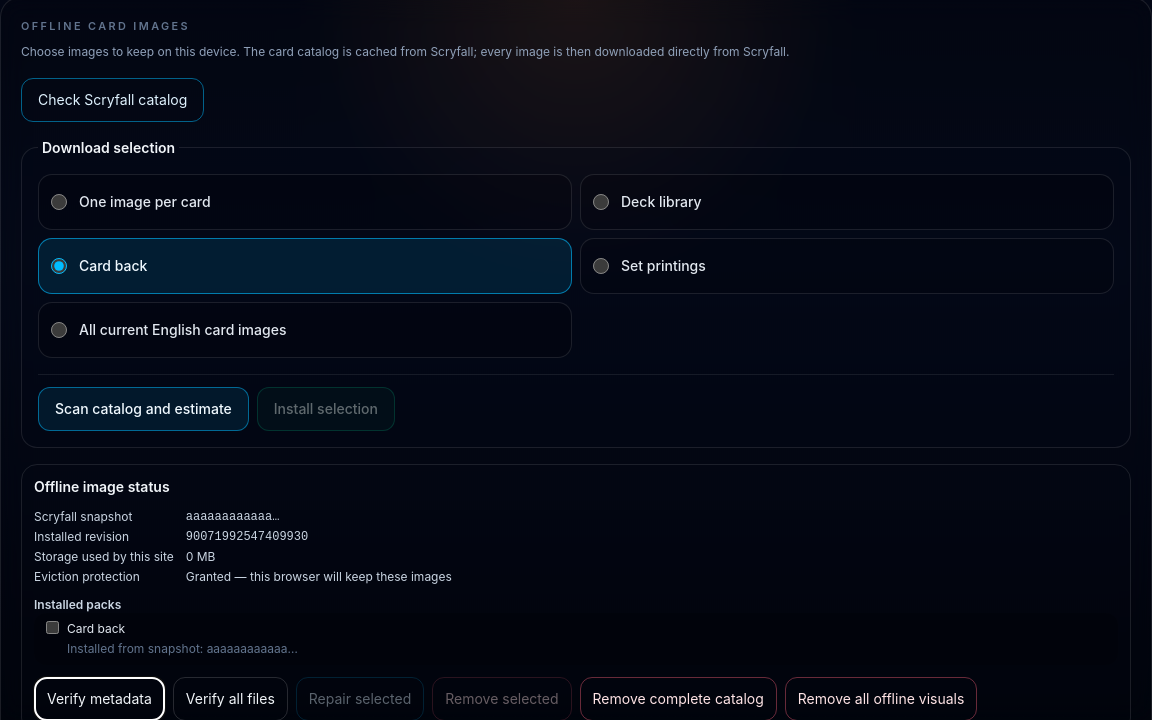
it: VisualPackManager initialization › restores a removal confirmation to its pointer launcher
Click the button "Remove all offline visuals".
click(881, 699)  # box [785,677,977,719]
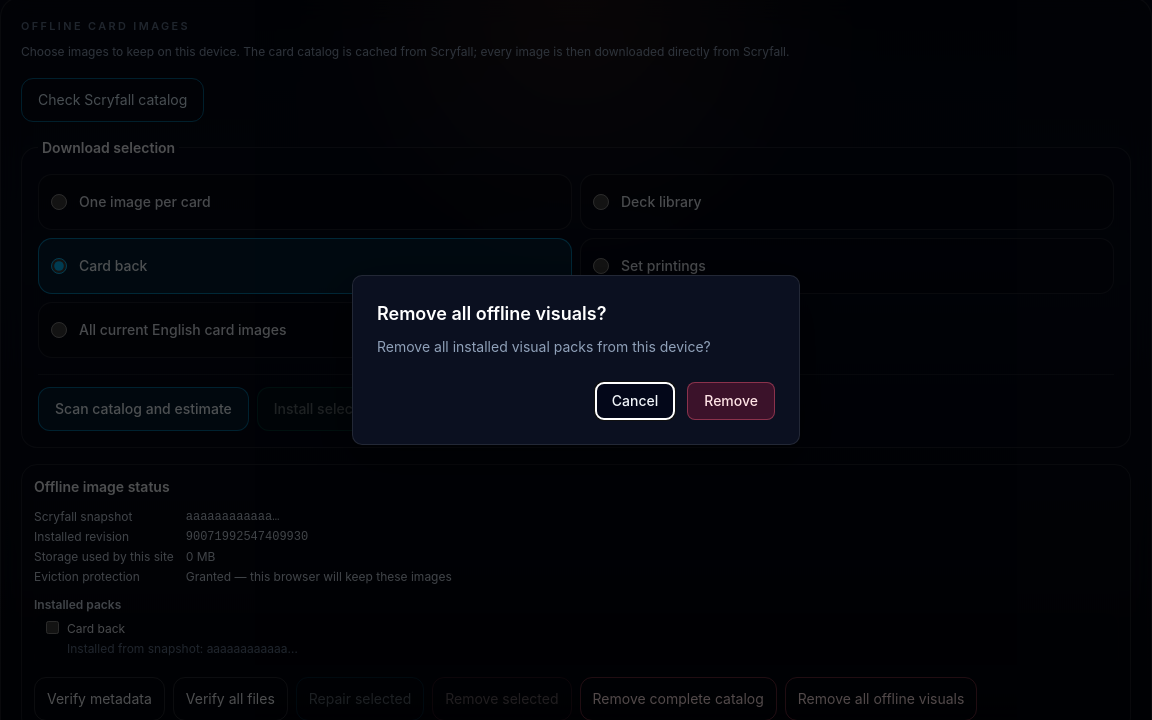
Press Escape in the dialog, box [352,275,800,445]
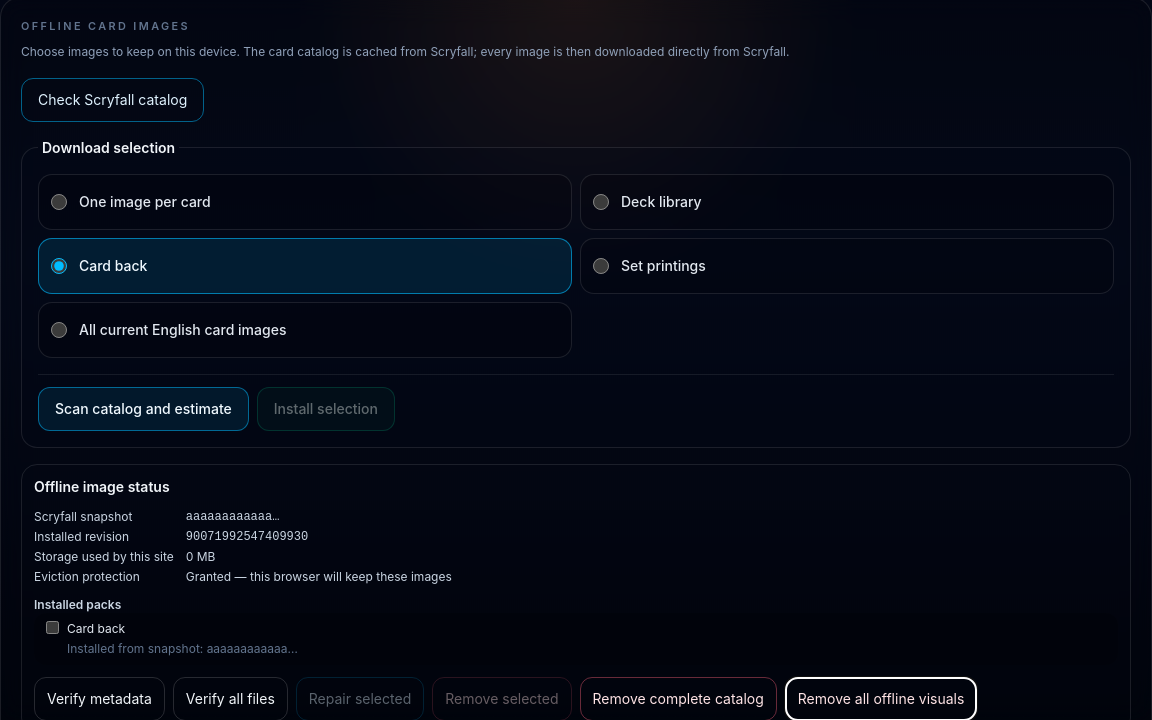
expect the dialog is gone: met
